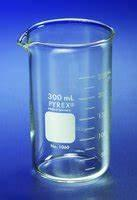Beaker: (17, 11, 114, 187)
